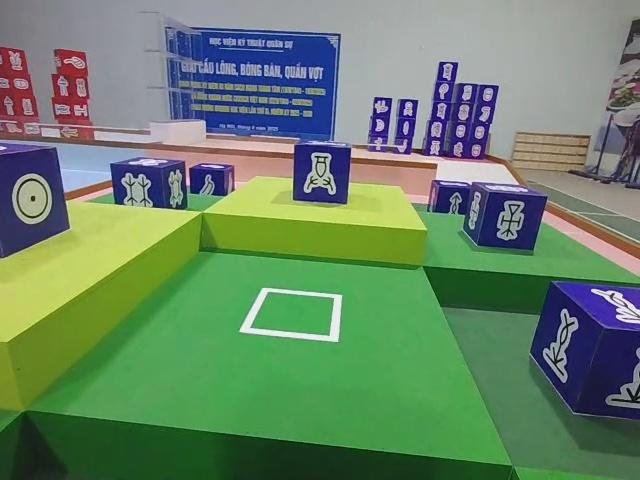R2 Real Blue: (529, 284, 639, 427), (0, 146, 69, 267), (463, 183, 548, 254), (109, 156, 188, 210), (294, 139, 355, 207), (424, 178, 472, 224), (187, 161, 236, 197)
